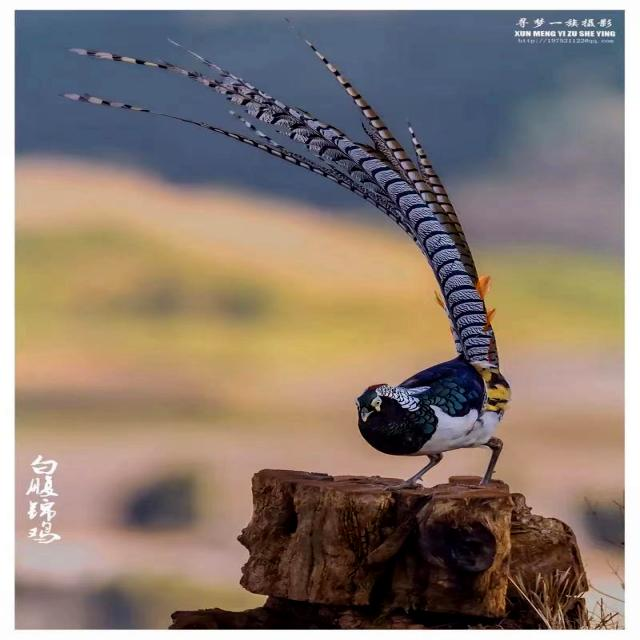Chrysolophus amherstiae: (70, 41, 496, 367), (61, 94, 159, 114)
